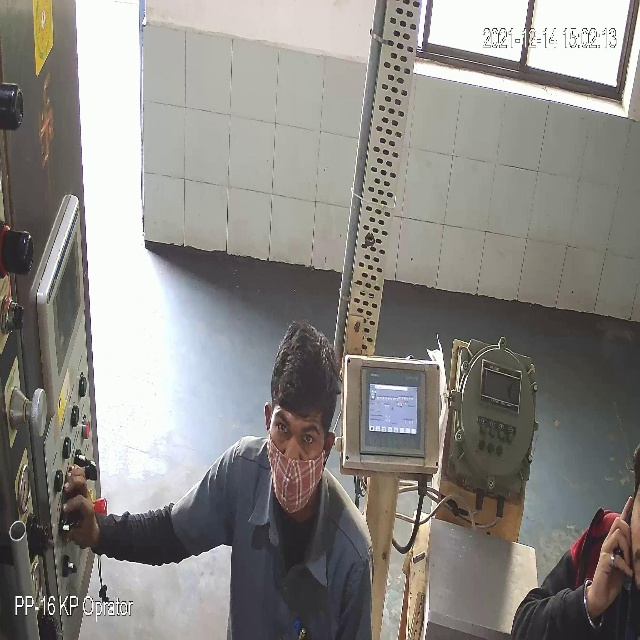Sin_gafas: (271, 411, 323, 460)
